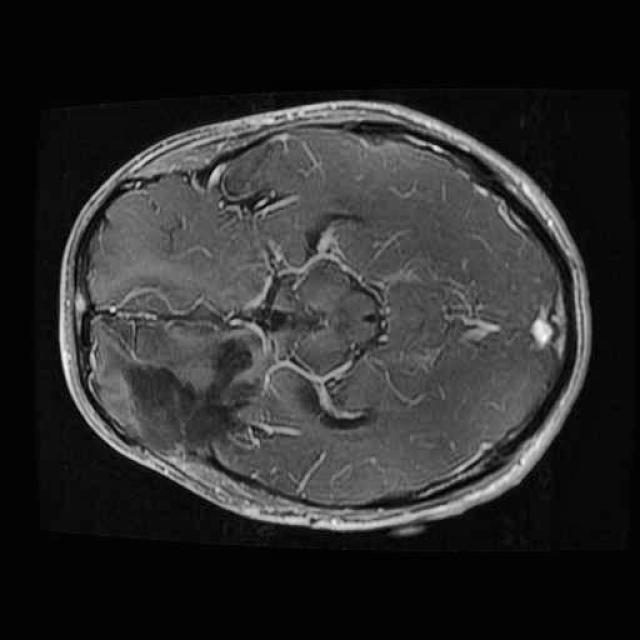Non-Tumor: (89, 326, 269, 466)
